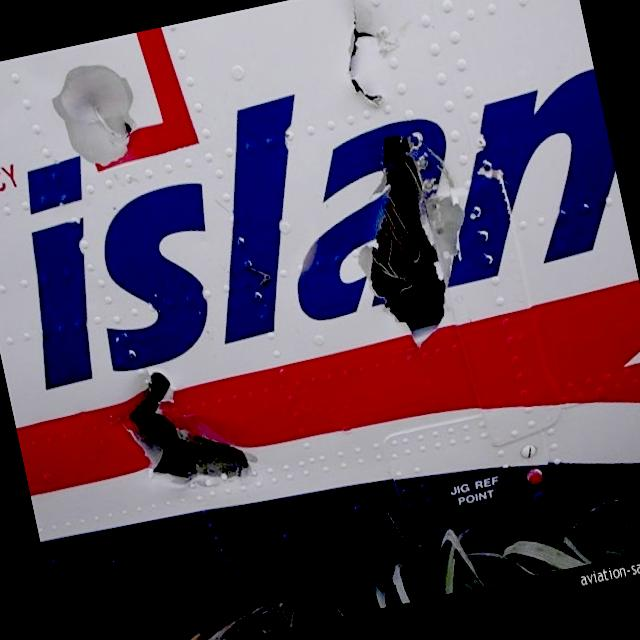crack: (334, 123, 468, 364), (108, 350, 264, 506), (330, 0, 397, 116), (86, 90, 137, 148)
